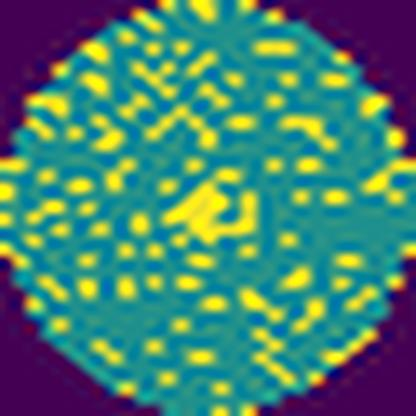Center: (167, 178, 235, 246)
